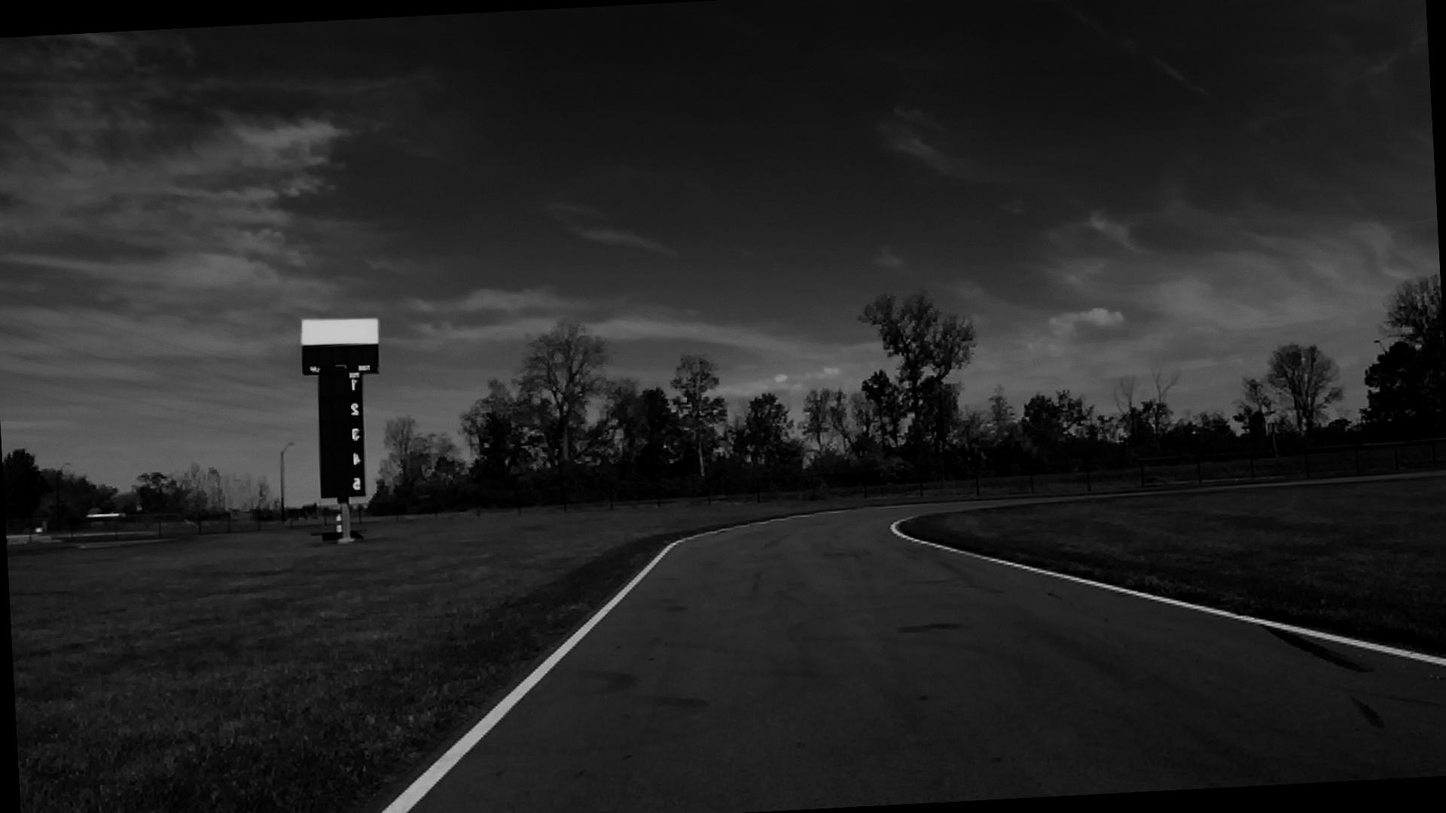white-line: (379, 513, 812, 813), (891, 516, 1446, 666), (1322, 635, 1446, 667), (1183, 604, 1287, 628)
